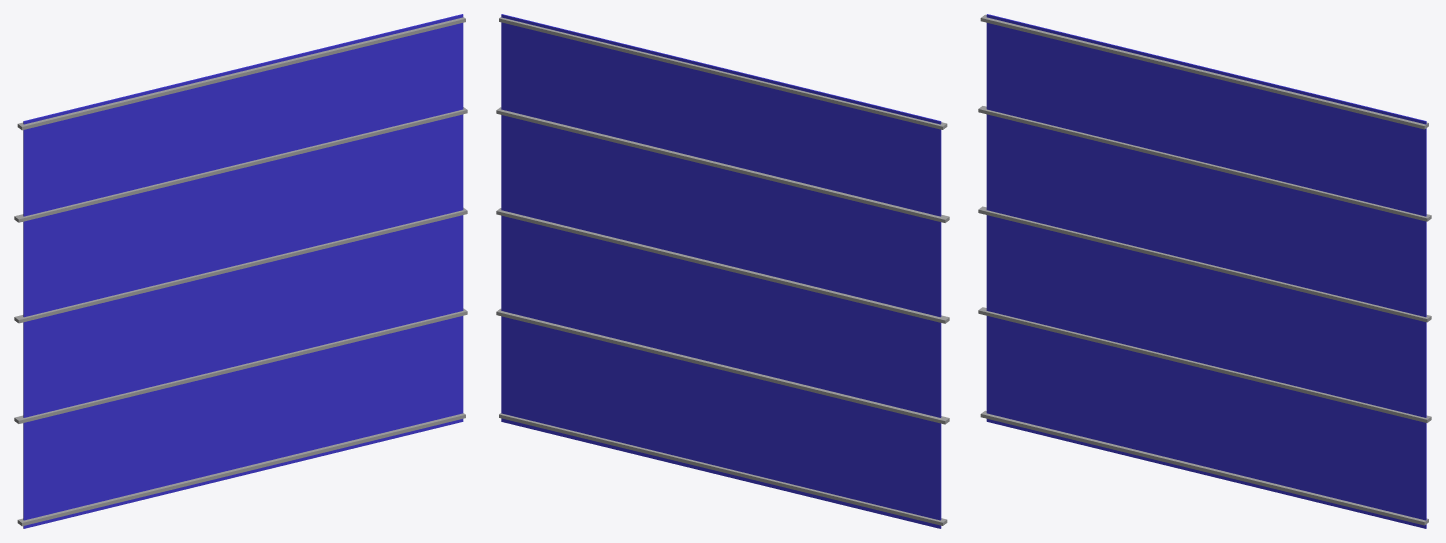
Rendered from Lobby_Non-PhaseableGlass_2.fbx.
3 renders of one model, left to right at view 1: azimuth 30°, elevation 25°; view 2: azimuth 150°, elevation 25°; view 3: azimuth 330°, elevation 25°, orthographic.
Parts seen in each view (by area): view 1: NonPhasable_Glass, Phase_Glass_Border11, Phase_Glass_Border8, Phase_Glass_Border10, Phase_Glass_Border9, Phase_Glass_Border7; view 2: NonPhasable_Glass, Phase_Glass_Border7, Phase_Glass_Border10, Phase_Glass_Border9, Phase_Glass_Border11, Phase_Glass_Border8; view 3: NonPhasable_Glass, Phase_Glass_Border8, Phase_Glass_Border11, Phase_Glass_Border9, Phase_Glass_Border10, Phase_Glass_Border7.
Boxes of the visible parts, x1,y1,x2,y2 form: NonPhasable_Glass: [23, 14, 463, 528]; Phase_Glass_Border11: [17, 17, 465, 130]; Phase_Glass_Border8: [17, 413, 465, 526]; Phase_Glass_Border10: [14, 107, 467, 222]; Phase_Glass_Border9: [14, 207, 467, 323]; Phase_Glass_Border7: [14, 308, 467, 423]; NonPhasable_Glass: [501, 14, 941, 528]; Phase_Glass_Border7: [496, 308, 949, 424]; Phase_Glass_Border10: [496, 107, 949, 222]; Phase_Glass_Border9: [496, 208, 949, 323]; Phase_Glass_Border11: [499, 17, 947, 129]; Phase_Glass_Border8: [499, 413, 947, 525]; NonPhasable_Glass: [986, 14, 1426, 528]; Phase_Glass_Border8: [980, 410, 1428, 525]; Phase_Glass_Border11: [980, 14, 1428, 129]; Phase_Glass_Border9: [978, 206, 1431, 322]; Phase_Glass_Border10: [978, 106, 1431, 221]; Phase_Glass_Border7: [978, 307, 1431, 422].
Size of the model in its own units: 819 by 710 by 15.31.
